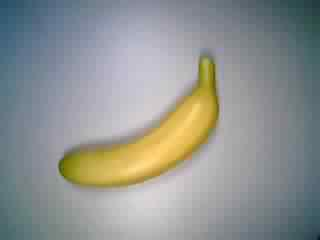banana: (52, 52, 227, 188)
